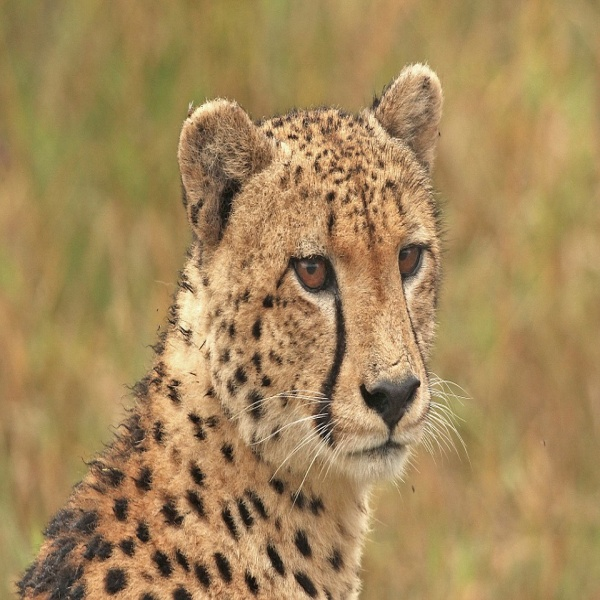Cheetah: (26, 61, 450, 597)
